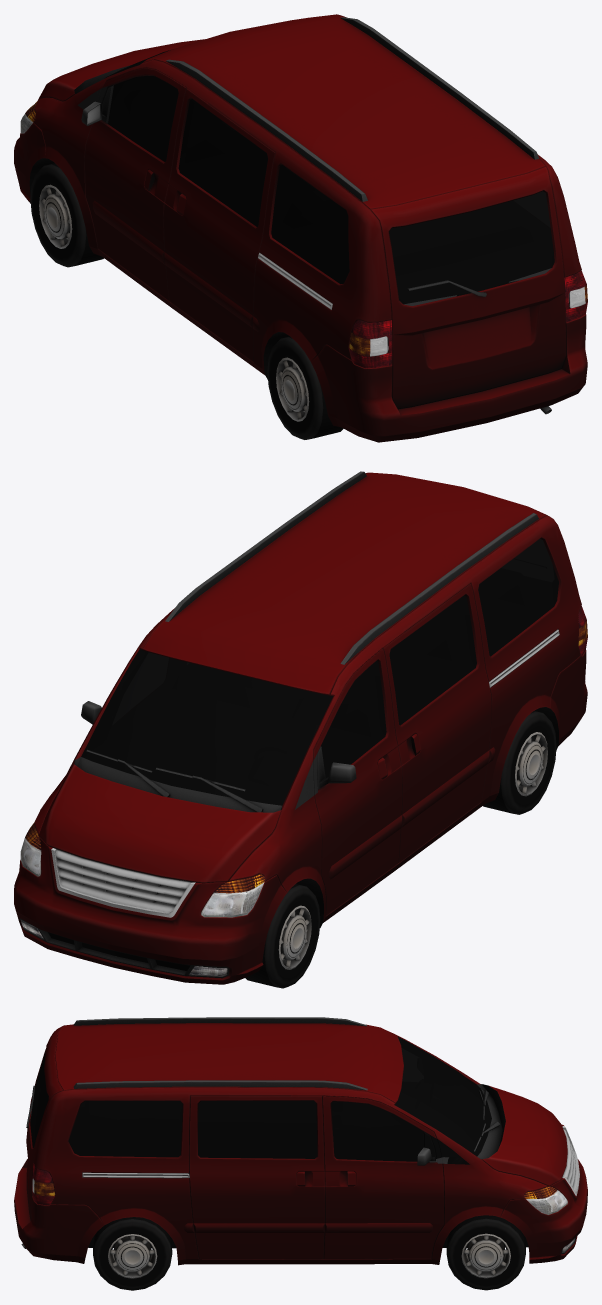
The model's file is minivan.glb.
The picture shows the model from 3 angles, top to bottom: view 1: azimuth 30°, elevation 25°; view 2: azimuth 150°, elevation 25°; view 3: azimuth 270°, elevation 25°; orthographic projection. The views are drawn at different scales.
Visible parts, largest first — view 1: Body, Wheel_RL, Wheel_FL; view 2: Body, Wheel_FL, Wheel_RL; view 3: Body, Wheel_FR, Wheel_RR.
Boxes of the visible parts, bbox=[...] form: Body: bbox=[14, 14, 587, 442]; Wheel_RL: bbox=[267, 336, 343, 439]; Wheel_FL: bbox=[30, 163, 104, 267]; Body: bbox=[14, 471, 587, 984]; Wheel_FL: bbox=[245, 884, 320, 988]; Wheel_RL: bbox=[483, 711, 556, 814]; Body: bbox=[14, 1017, 587, 1265]; Wheel_FR: bbox=[446, 1215, 525, 1290]; Wheel_RR: bbox=[93, 1217, 172, 1290].
Size of the model in its own units: 1.87 by 1.76 by 4.61.
4 materials, 3 textured.
